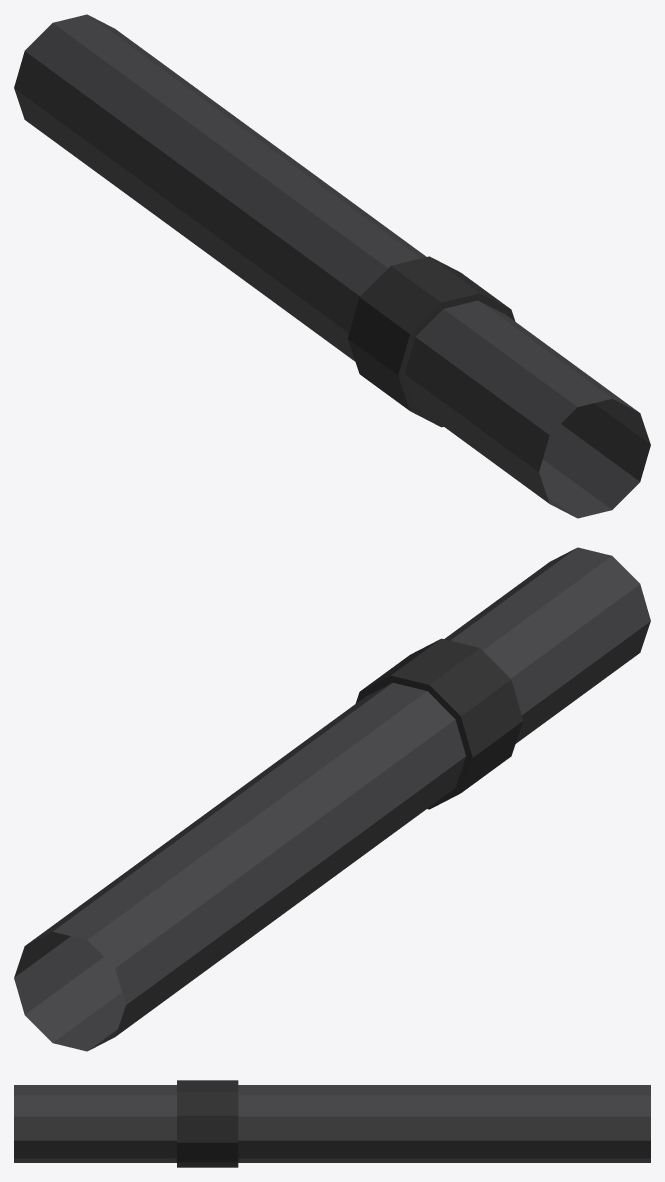
Rendered from BigPipe01.fbx.
3 renders of one model, top to bottom at view 1: azimuth 30°, elevation 25°; view 2: azimuth 150°, elevation 25°; view 3: azimuth 270°, elevation 25°, orthographic. The views are drawn at different scales.
Visible parts, largest first — view 1: BigPipe01; view 2: BigPipe01; view 3: BigPipe01.
Boxes of the visible parts, x1,y1,x2,y2 form: BigPipe01: [14, 14, 650, 518]; BigPipe01: [14, 547, 650, 1051]; BigPipe01: [14, 1080, 650, 1167].
Size of the model in its own units: 32.39 by 30.8 by 235.
